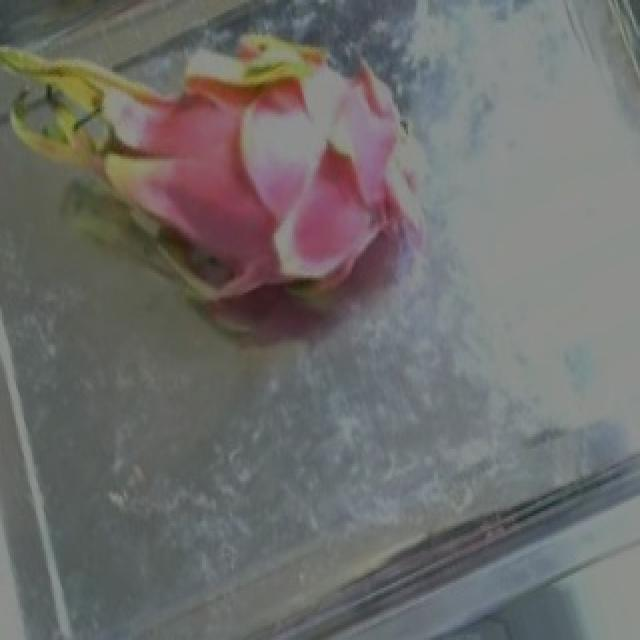fruit: (0, 0, 390, 414)
